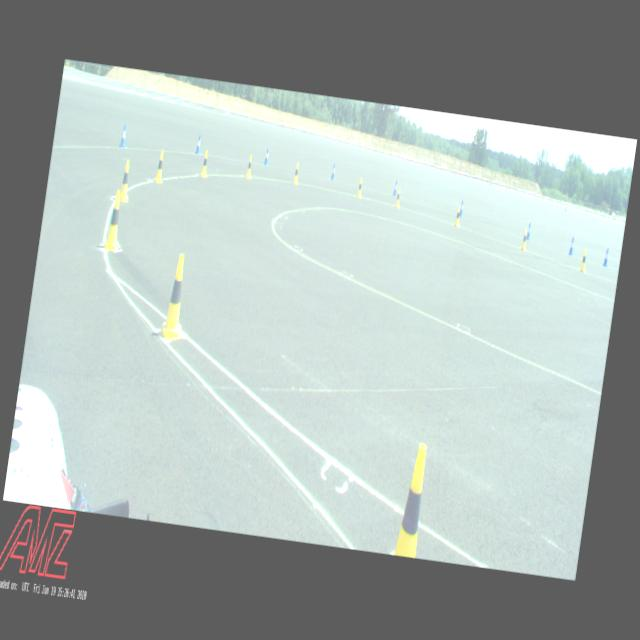blue_cone: (119, 124, 129, 148), (602, 247, 610, 268), (568, 236, 576, 256), (195, 134, 202, 156), (264, 148, 270, 166), (526, 222, 532, 240), (392, 180, 398, 196), (331, 163, 336, 180), (460, 200, 464, 218)
yellow_cone: (394, 442, 430, 558), (158, 252, 195, 346), (104, 190, 127, 252), (120, 159, 134, 203), (154, 150, 167, 184), (200, 150, 210, 178), (520, 228, 529, 251), (246, 155, 254, 179), (580, 248, 588, 272), (293, 163, 301, 186), (394, 187, 402, 208), (454, 206, 462, 227), (356, 178, 364, 198)
